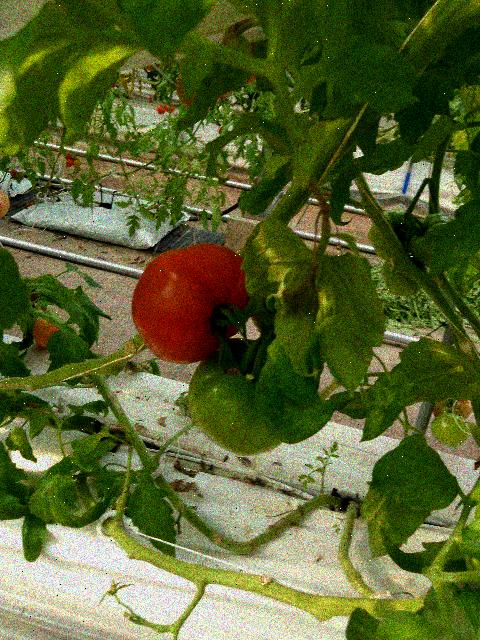b_fully_ripened: (131, 244, 252, 365)
b_green: (189, 338, 282, 456), (368, 209, 420, 259), (409, 213, 458, 265), (382, 250, 427, 296), (431, 413, 470, 448)
